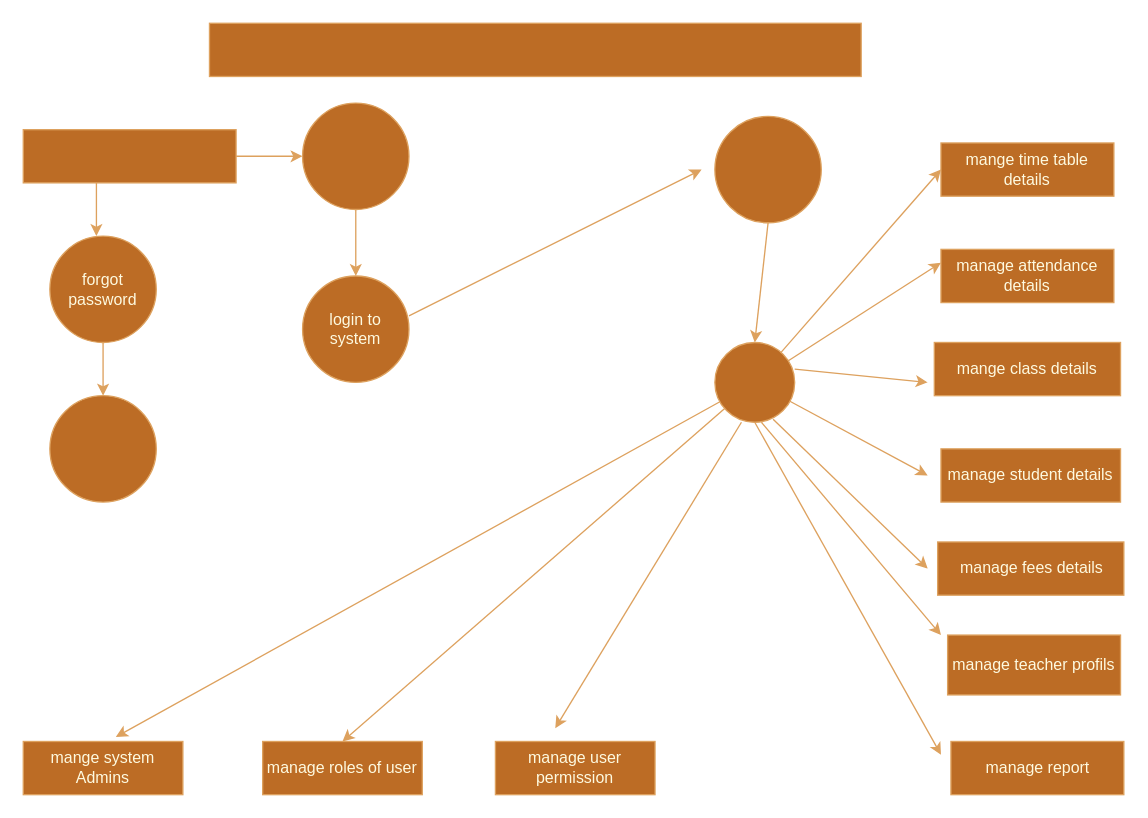
Image size: 1148x818. Some labels were removed from this diagram. The shapes that lost their labels are listed below. From the top down, each one's centre as x and y in pixels, then its label:
At point 534,49: "student information system".
At point 129,155: "admin".
At point 355,155: "check credentials".
At point 767,169: "check roles of access".
At point 754,381: "manage modules".
At point 102,448: "send email to user".
